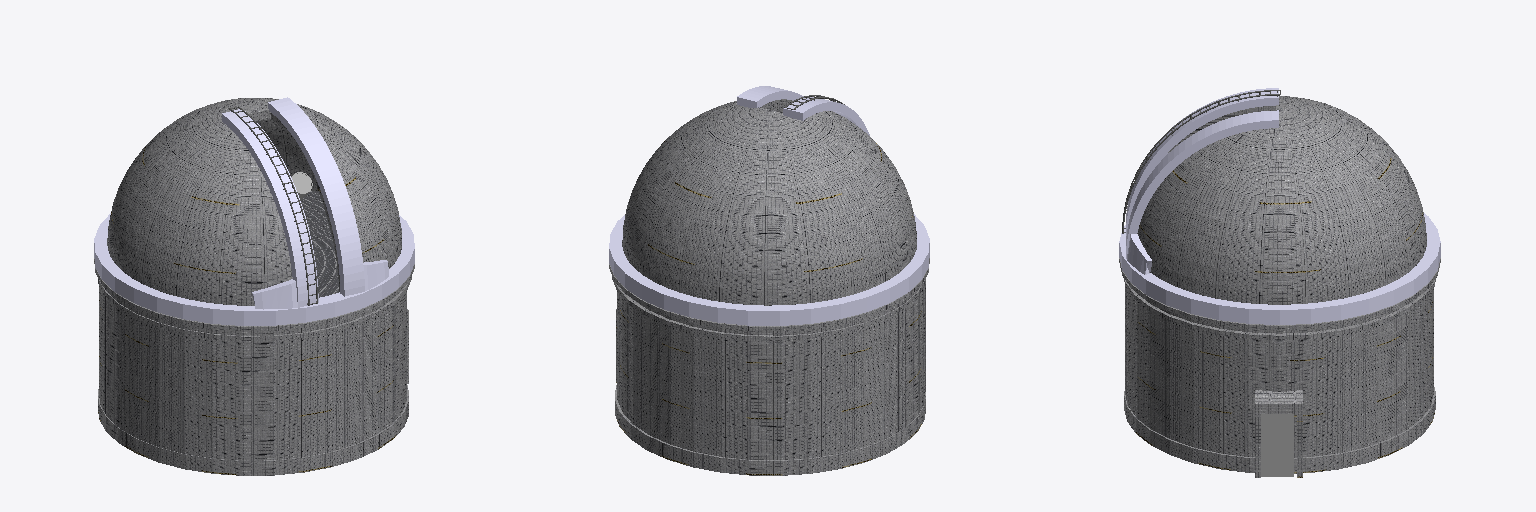
3 renders of one model, left to right at view 1: azimuth 30°, elevation 25°; view 2: azimuth 150°, elevation 25°; view 3: azimuth 270°, elevation 25°, orthographic.
Visible parts, largest first — view 1: 05_-_Default, 06_-_Default, Material__24, Material__15; view 2: 06_-_Default, 05_-_Default, Material__24; view 3: 05_-_Default, 06_-_Default, Material__24, Default, Material__15.
Part boxes in pixels (left/top/right/bottom): 05_-_Default: left=94, top=191, right=414, bottom=475; 06_-_Default: left=107, top=98, right=401, bottom=305; Material__24: left=94, top=97, right=414, bottom=325; Material__15: left=229, top=106, right=317, bottom=305; 06_-_Default: left=622, top=99, right=916, bottom=305; 05_-_Default: left=609, top=258, right=929, bottom=475; Material__24: left=609, top=86, right=929, bottom=325; 05_-_Default: left=1119, top=258, right=1440, bottom=477; 06_-_Default: left=1137, top=96, right=1426, bottom=304; Material__24: left=1119, top=88, right=1440, bottom=324; Default: left=1261, top=414, right=1293, bottom=476; Material__15: left=1122, top=90, right=1280, bottom=233.
Bounding box in the file's own units: 738 × 771 × 731.
5 materials, 1 textured.